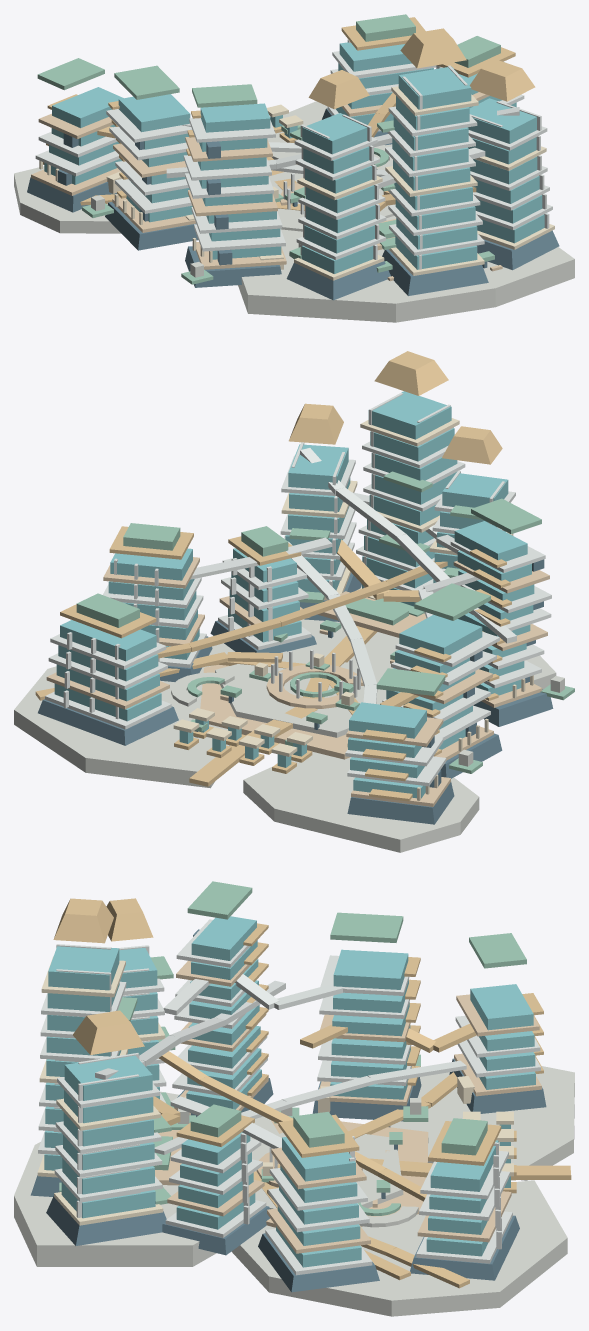
File: a39_district_confluence.glb
3 views of the same model, one above another, from view 1: azimuth 30°, elevation 25°; view 2: azimuth 150°, elevation 25°; view 3: azimuth 270°, elevation 25° (orthographic). The views are drawn at different scales.
Size of the model in its own units: 555 by 311 by 539.
